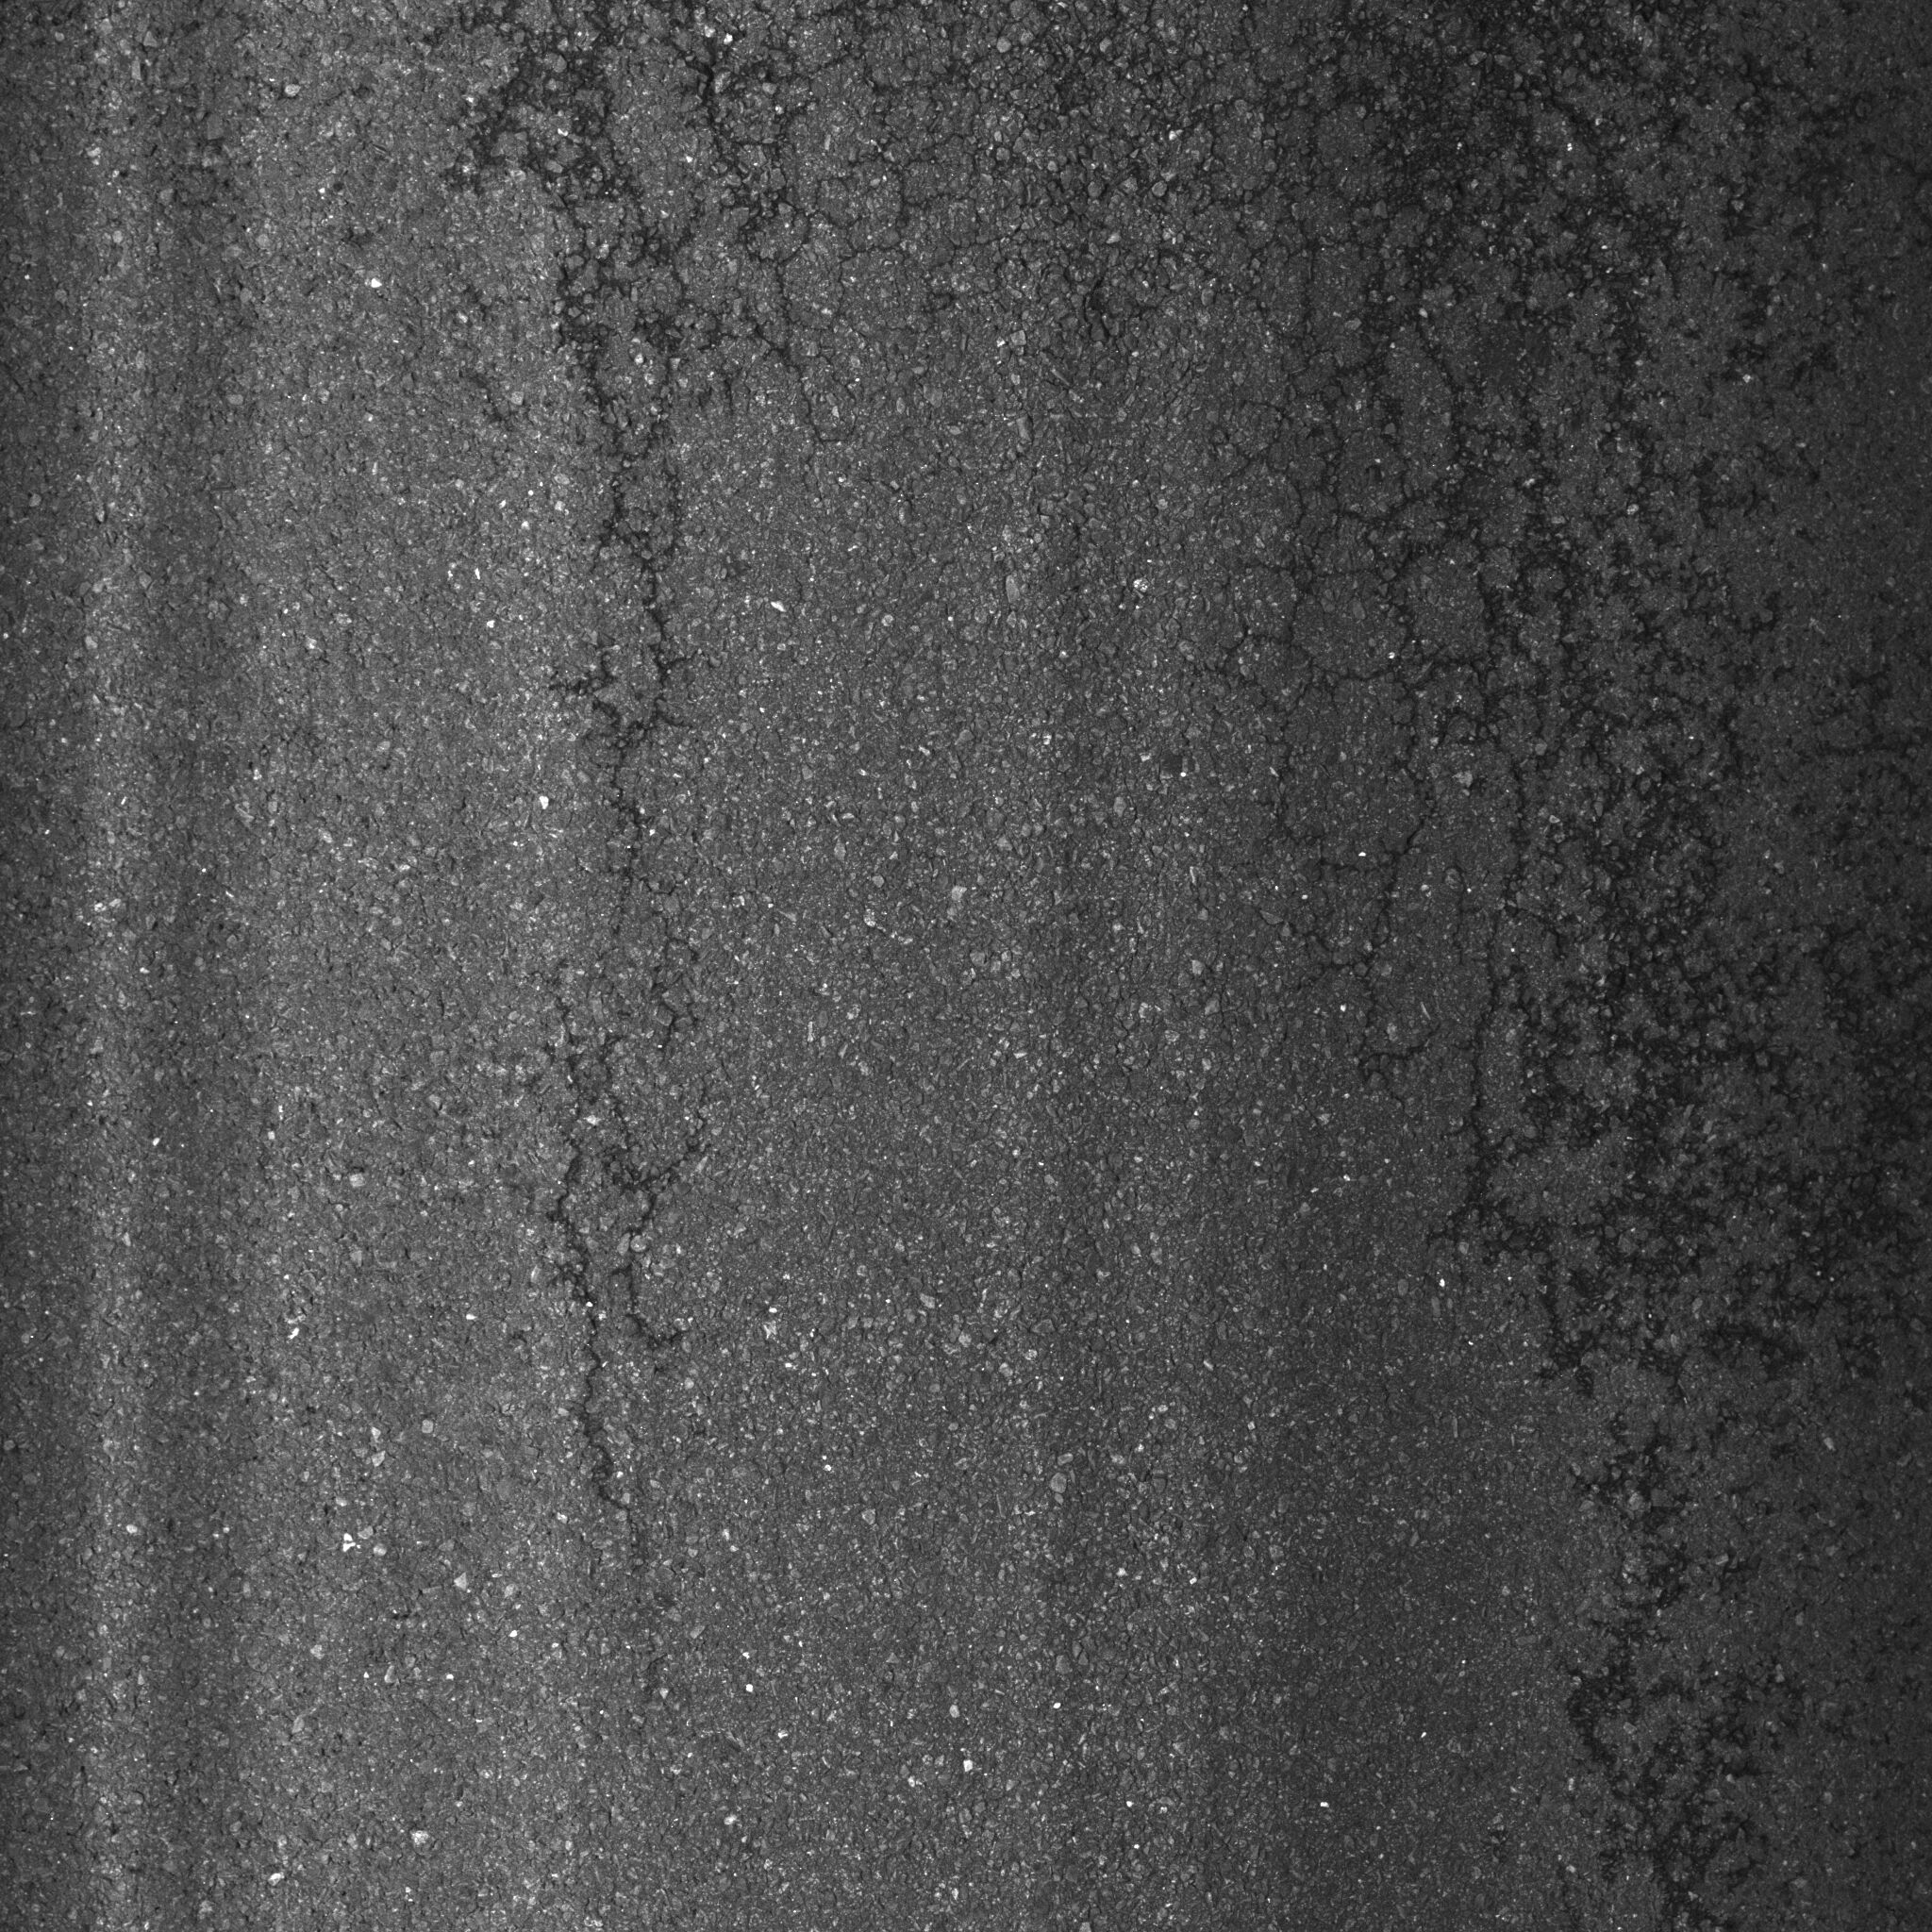alligator: (326, 5, 1881, 1932)
